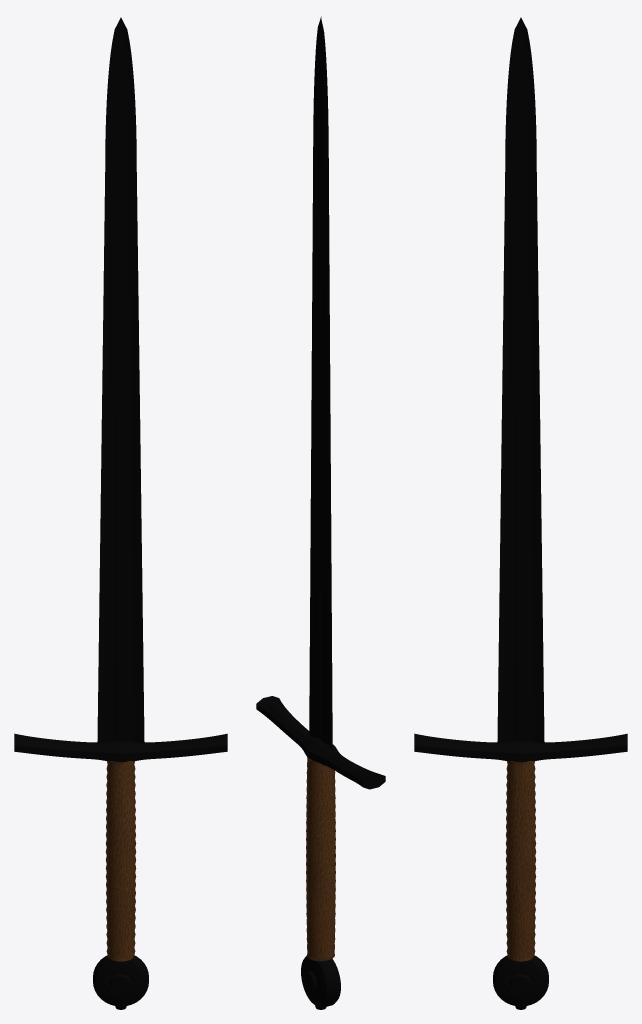
File: longsword.glb
3 renders of one model, left to right at view 1: azimuth 90°, elevation 25°; view 2: azimuth 210°, elevation 25°; view 3: azimuth 270°, elevation 25°, orthographic.
Visible parts, largest first — view 1: longsword; view 2: longsword; view 3: longsword.
Boxes of the visible parts, x1,y1,x2,y2 form: longsword: (14, 17, 227, 1009); longsword: (256, 16, 385, 1009); longsword: (414, 17, 627, 1009).
Size of the model in its own units: 0.035 by 1.26 by 0.244.
3 materials, 3 textured.
